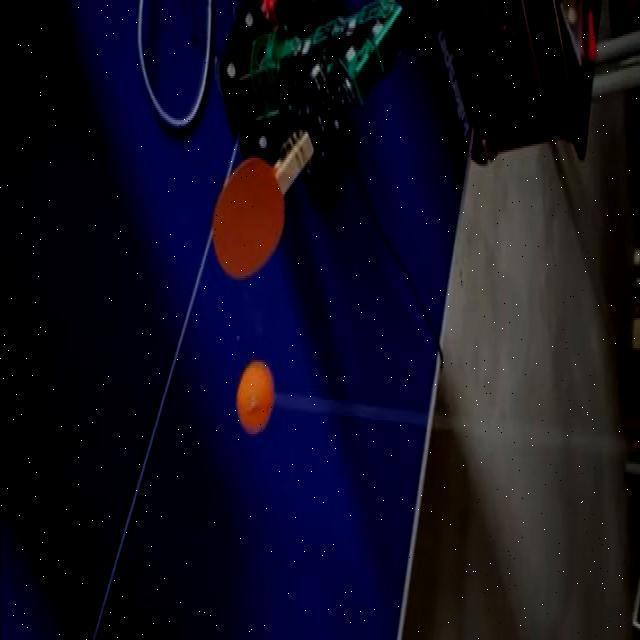ping-pong-ball: (238, 366, 272, 424)
